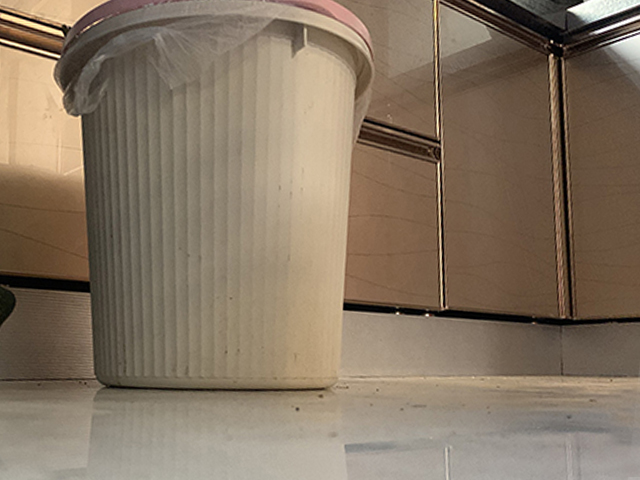cabinet: (344, 1, 640, 379)
trashcan: (54, 1, 375, 392)
